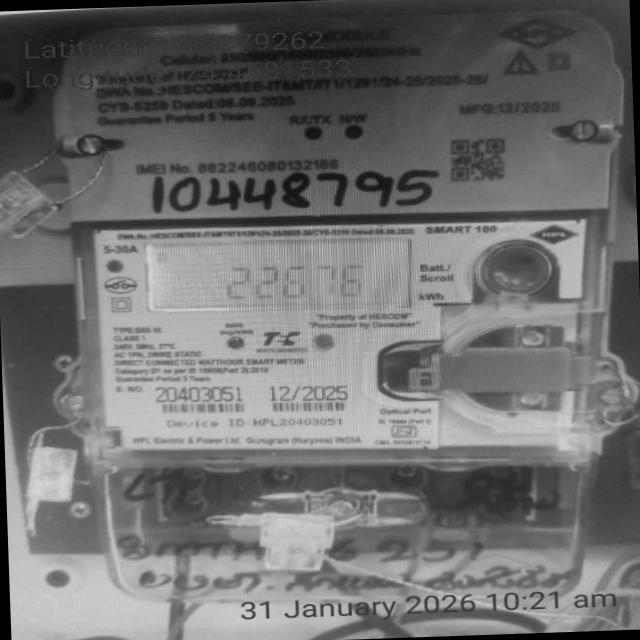meter: (59, 14, 606, 472)
